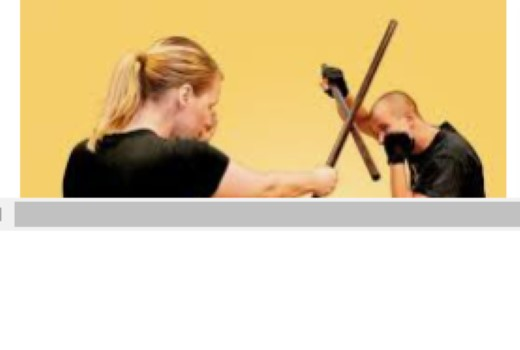baston_e: (334, 55, 365, 178), (328, 96, 378, 170)
baston_v: (382, 8, 403, 33), (366, 163, 385, 188)
